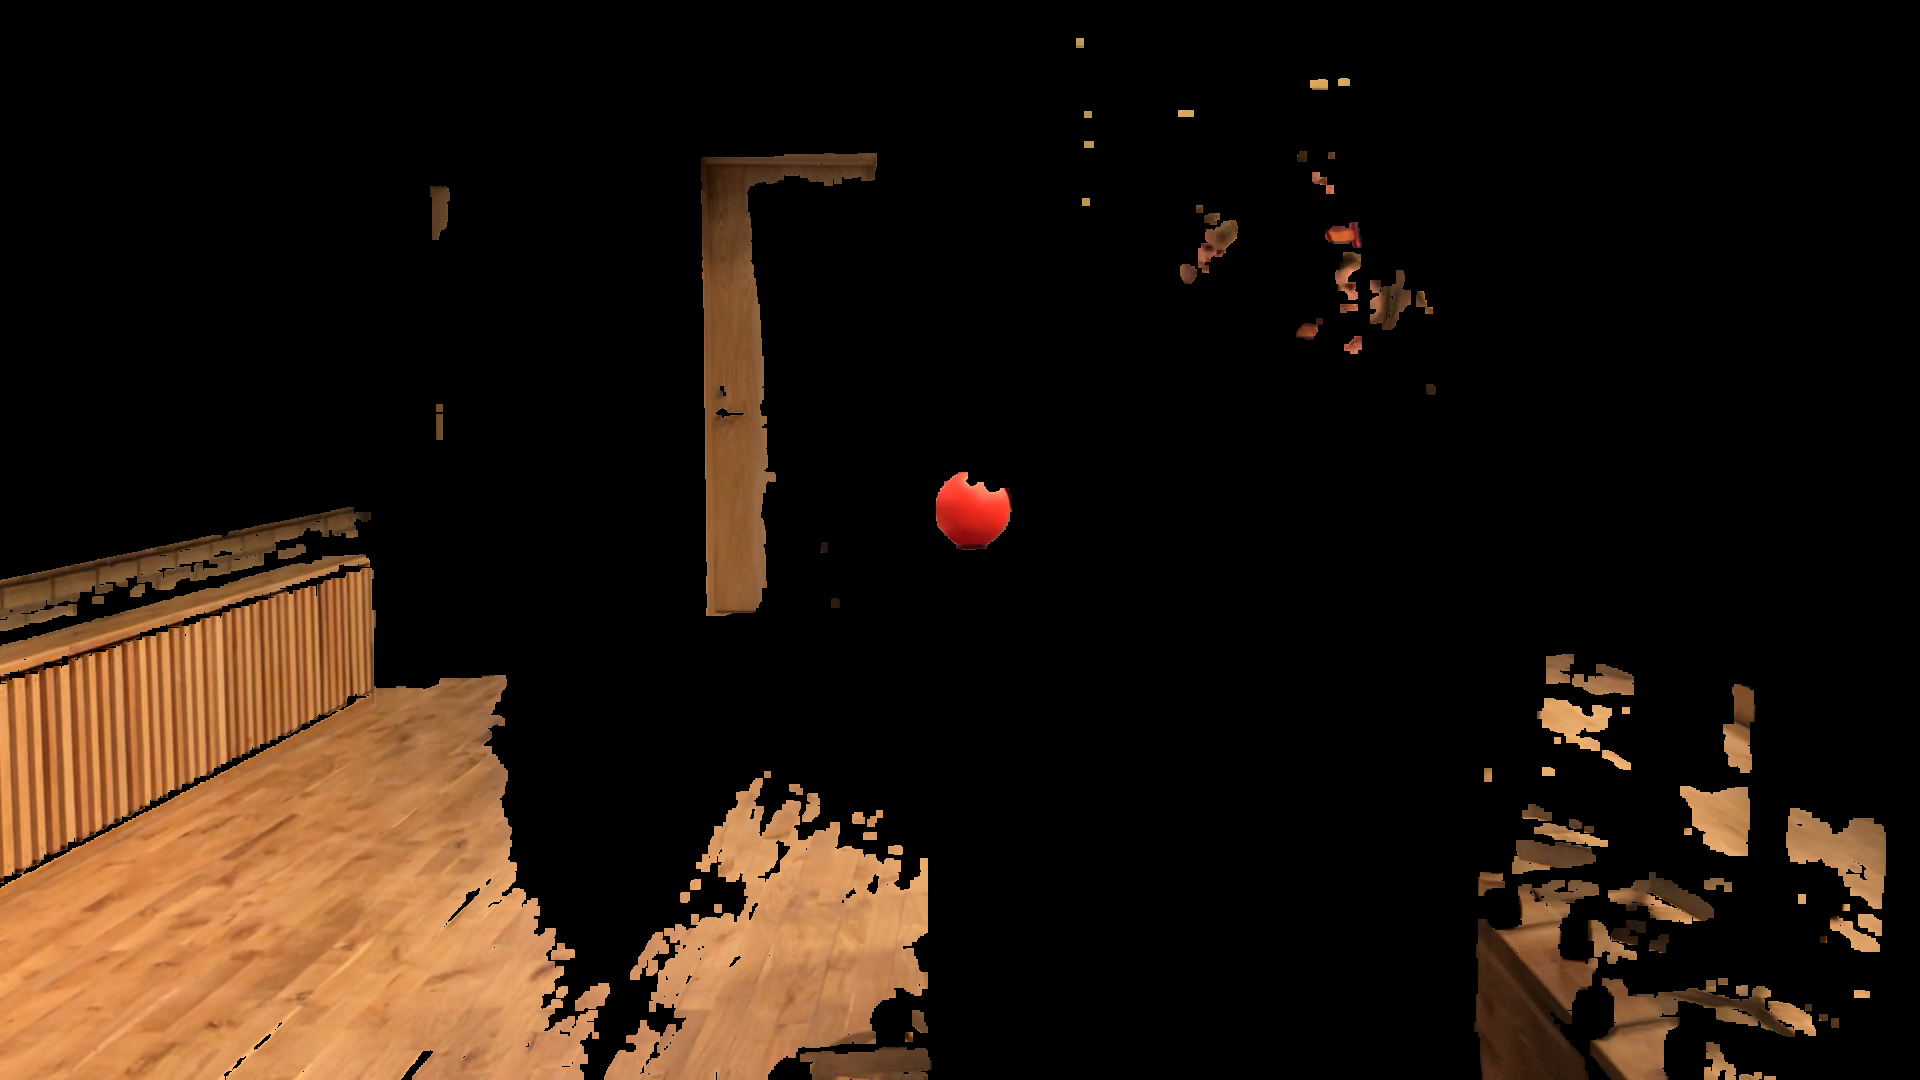Ball: (930, 462, 1023, 550)
